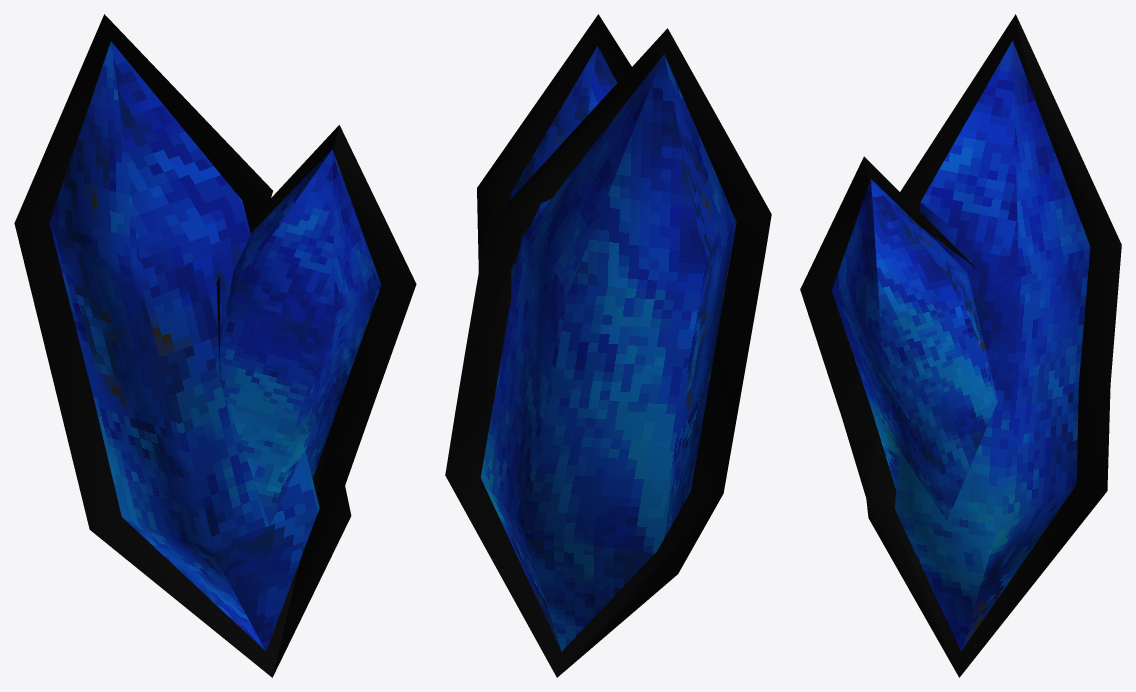
The model's file is OUBLIETTECRYSTAL2_PU.fbx.
3 views of the same model, side by side, from view 1: azimuth 30°, elevation 25°; view 2: azimuth 150°, elevation 25°; view 3: azimuth 270°, elevation 25° (orthographic). The views are drawn at different scales.
Visible parts, largest first — view 1: OUBLIETTECRYSTAL2_PU; view 2: OUBLIETTECRYSTAL2_PU; view 3: OUBLIETTECRYSTAL2_PU.
Boxes of the visible parts, <box> form: OUBLIETTECRYSTAL2_PU: <box>14,14,416,677</box>; OUBLIETTECRYSTAL2_PU: <box>445,14,771,677</box>; OUBLIETTECRYSTAL2_PU: <box>800,14,1121,677</box>.
Size of the model in its own units: 3227 by 6841 by 3301.
1 material, 1 textured.
